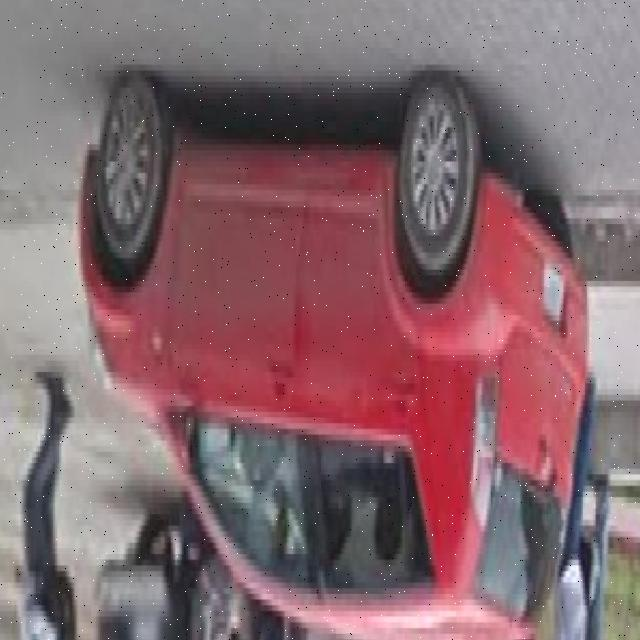car: (80, 60, 589, 625)
